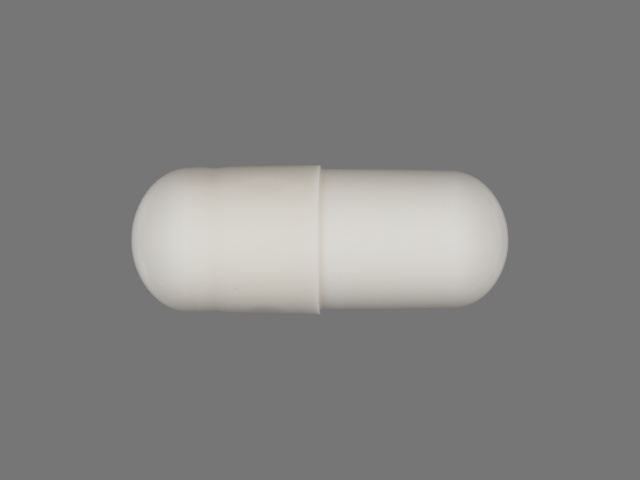capsule: (125, 161, 514, 319)
